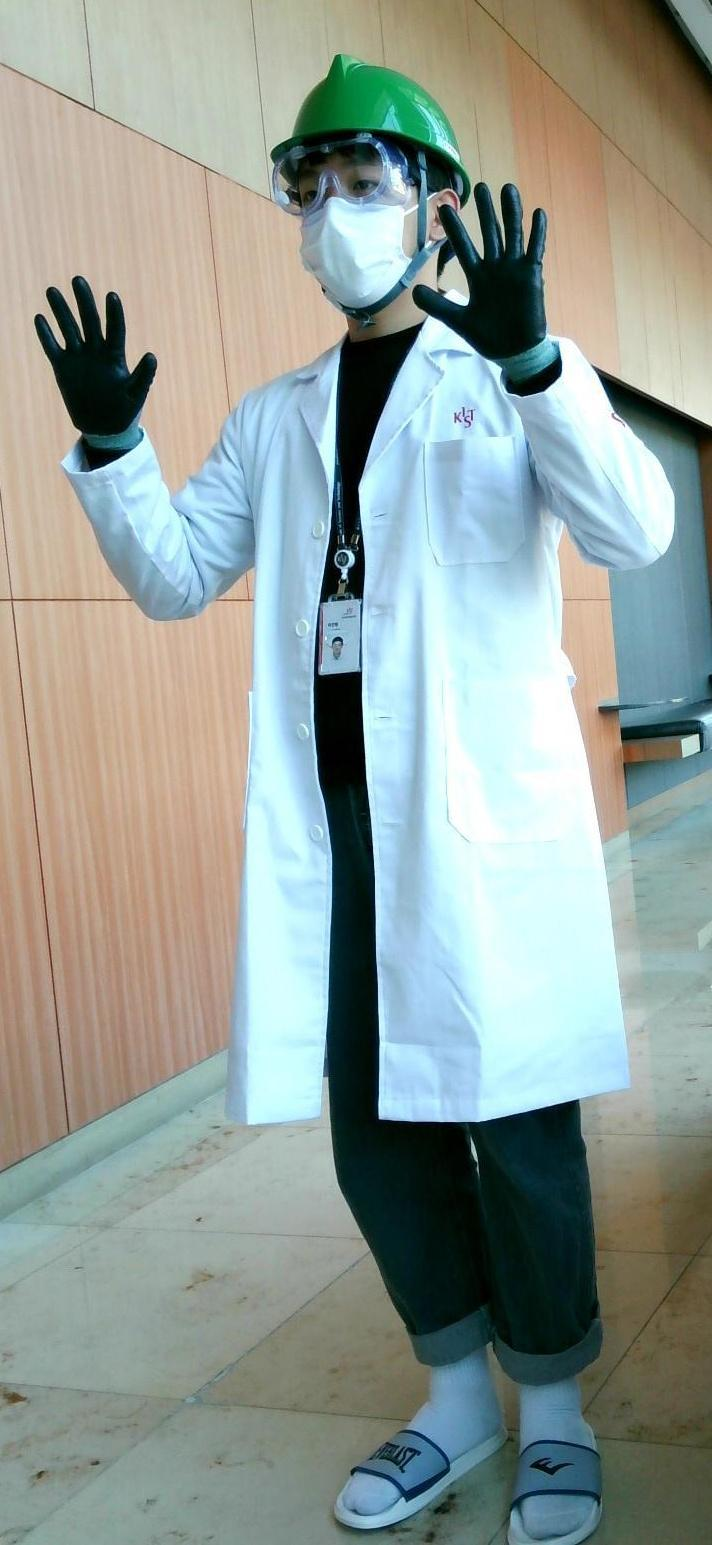lab_coat: (217, 381, 617, 1094)
